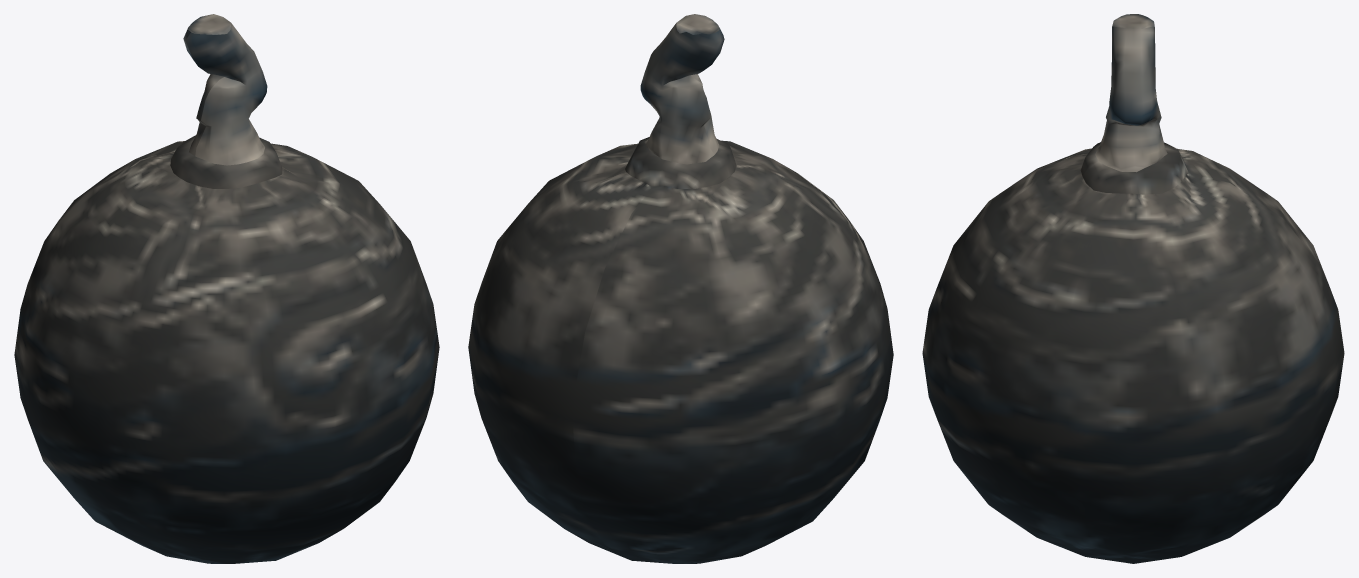
File: bomb_st.fbx
3 renders of one model, left to right at view 1: azimuth 30°, elevation 25°; view 2: azimuth 150°, elevation 25°; view 3: azimuth 270°, elevation 25°, orthographic. The views are drawn at different scales.
Parts seen in each view (by area): view 1: bomb_geo; view 2: bomb_geo; view 3: bomb_geo.
Boxes of the visible parts, x1=… form: bomb_geo: x1=14, y1=14, x2=439, y2=563; bomb_geo: x1=468, y1=14, x2=893, y2=563; bomb_geo: x1=922, y1=14, x2=1344, y2=563.
Bounding box in the file's own units: 61.65 × 83.35 × 61.65.
Materials: 1 (1 with a texture image).
